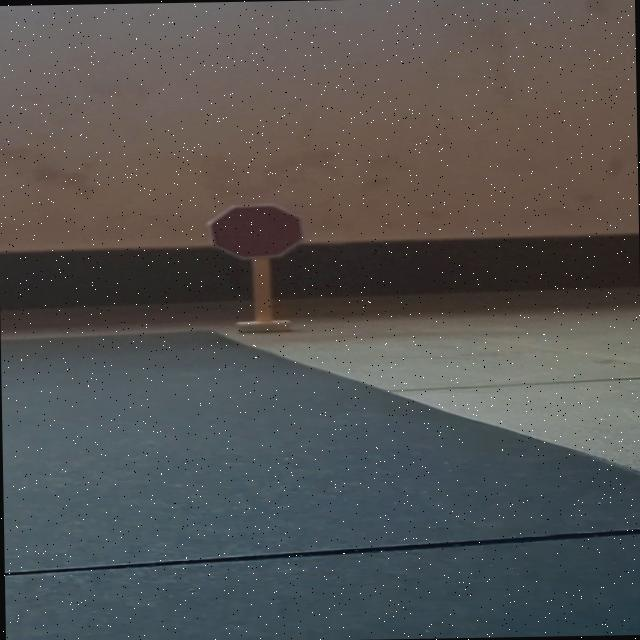Stop: (206, 202, 306, 260)
